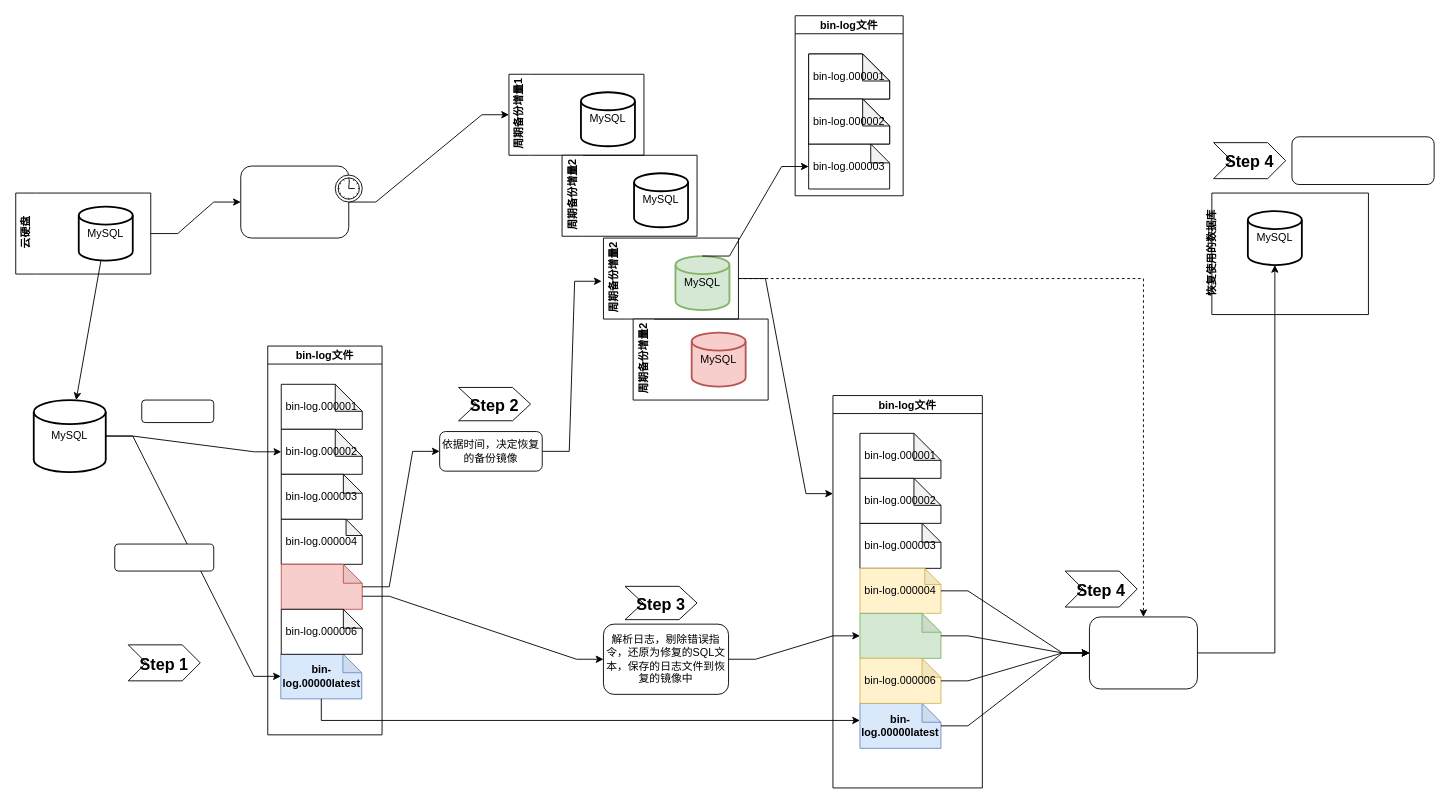
This 1450x804 diagram has some shape labels left out. Each missing label, with the centre of its shape:
bin-log.000005: (321,586)
fied-log-000005: (900,635)
云备份: (294,201)
启用MySQL服务，对启用的盘继续云盘备份: (1362,160)
增量的日志文件，转化执行给备份的MySQL执行恢复: (1143,652)
执行 LOGS FLUSH 刷出新日志: (164,557)
达到大小限制: (177,411)
